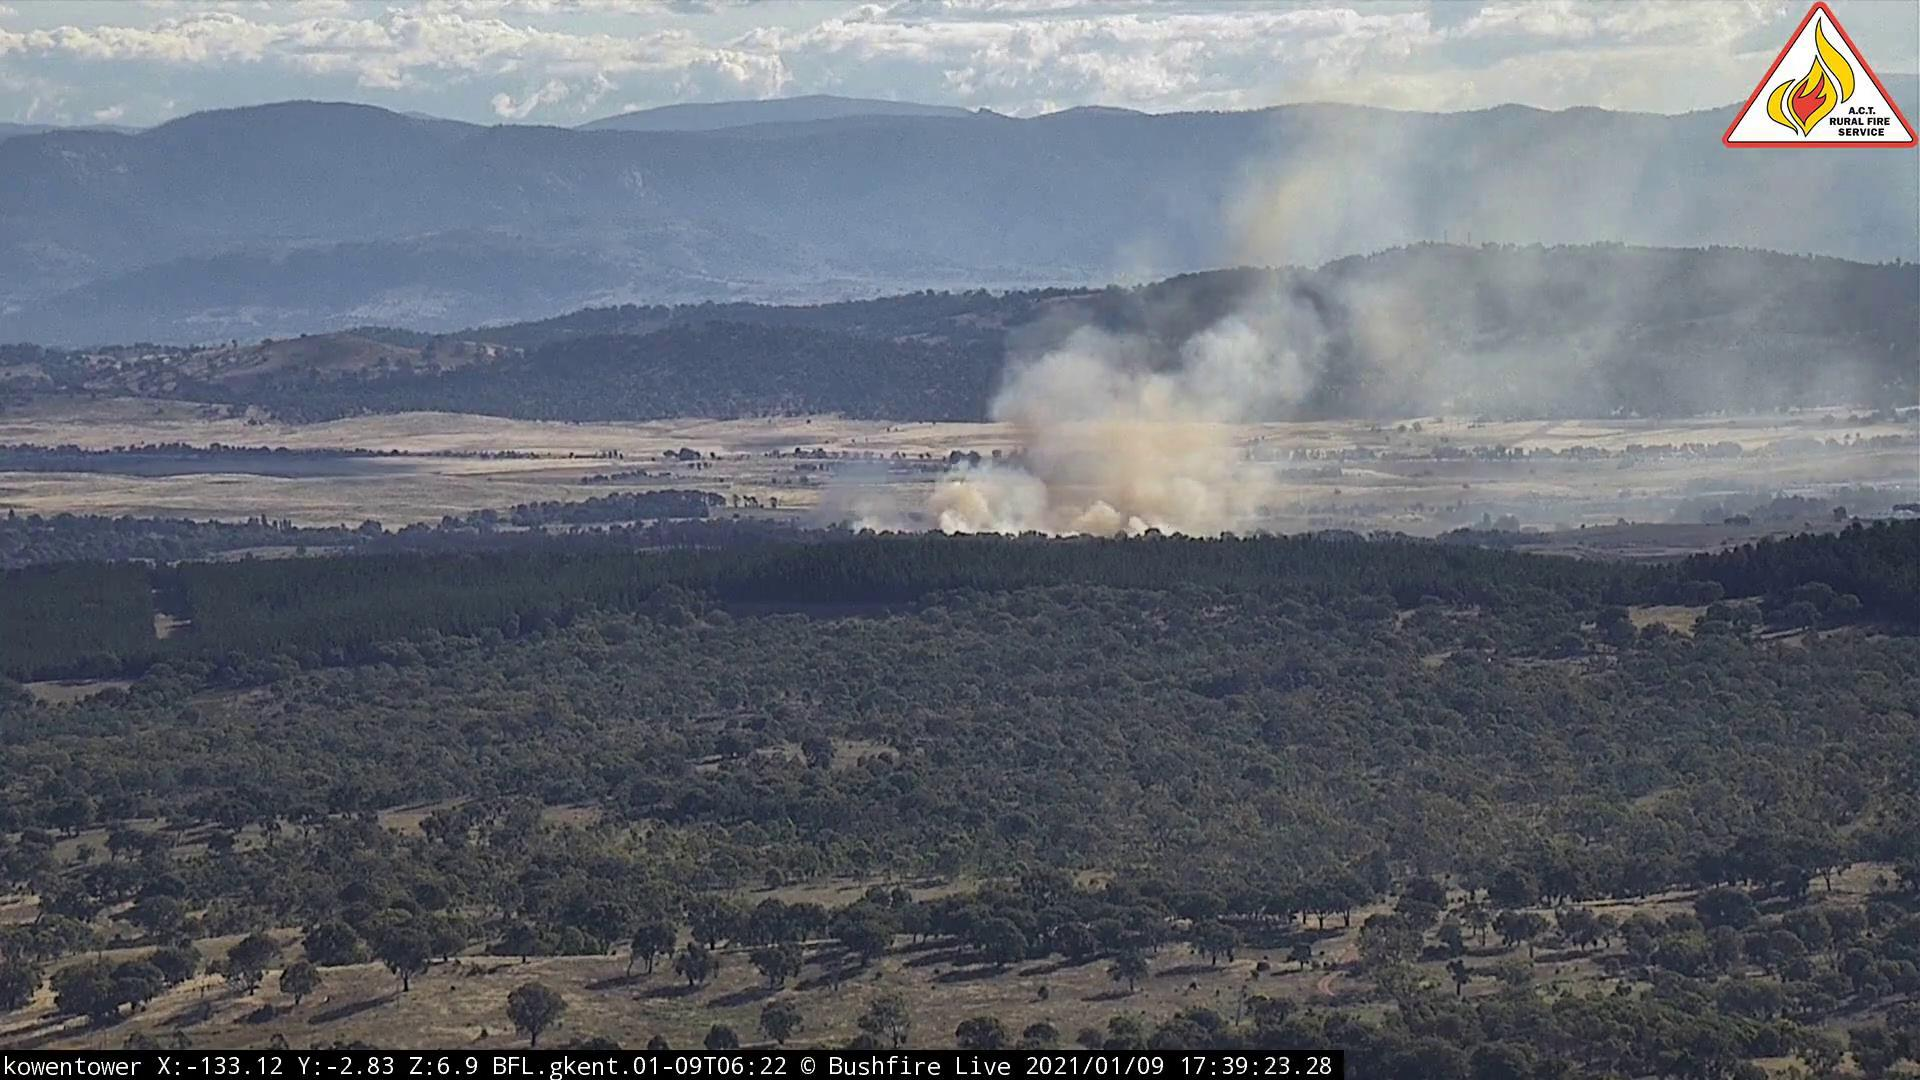Smoke: (840, 40, 1714, 545)
